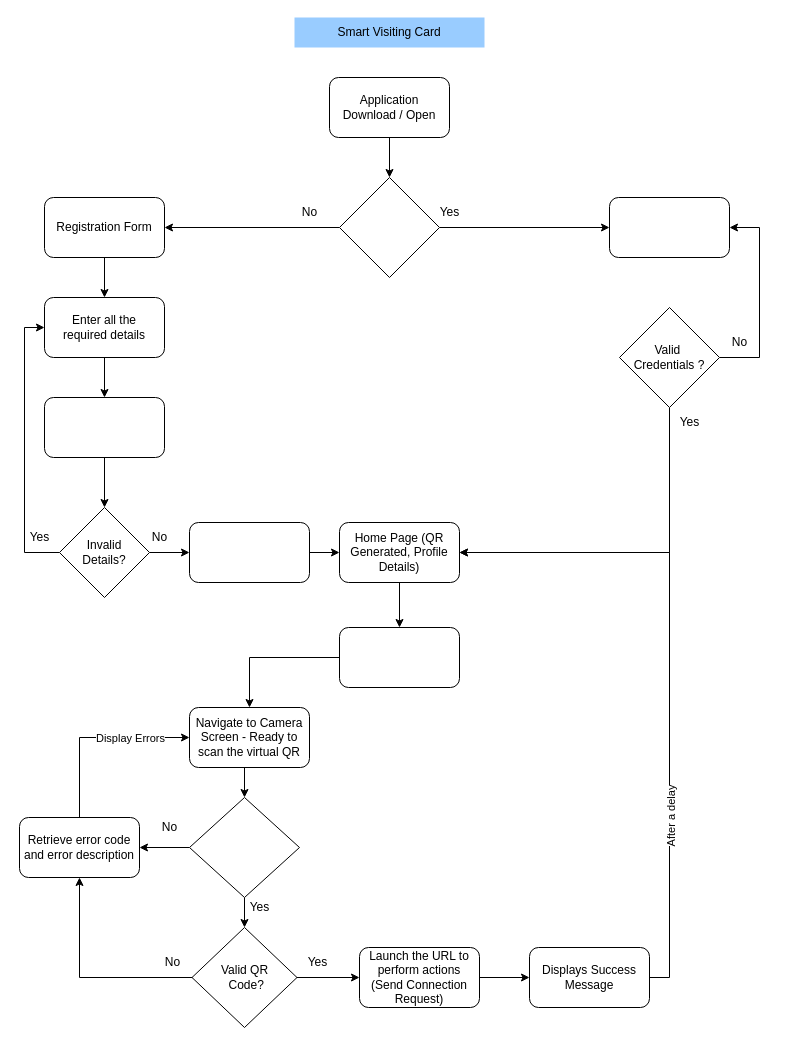
The diagram is 785 pixels wide and 1045 high, and some of its shapes have lost their labels. The box of each missing label's shape, as (x1, y1, x2, y2) in pixels:
Auto Login ?: (338, 176, 440, 278)
Camera permission available ?: (188, 796, 300, 898)
Click Next to Register: (44, 396, 164, 458)
Click on "Expand your Network": (338, 626, 460, 688)
Create QR based on LinkedIn Profile ID: (188, 522, 310, 582)
Login Form: (608, 196, 730, 258)
